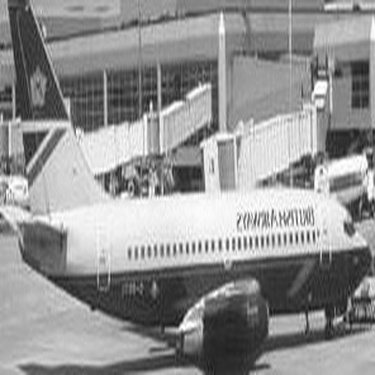airplane: (1, 8, 373, 372)
